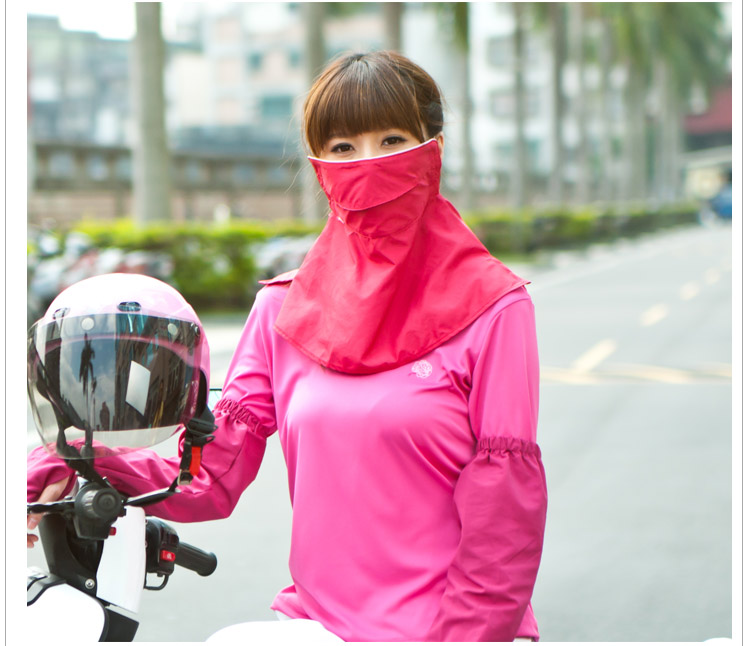face_mask: (317, 97, 428, 220)
